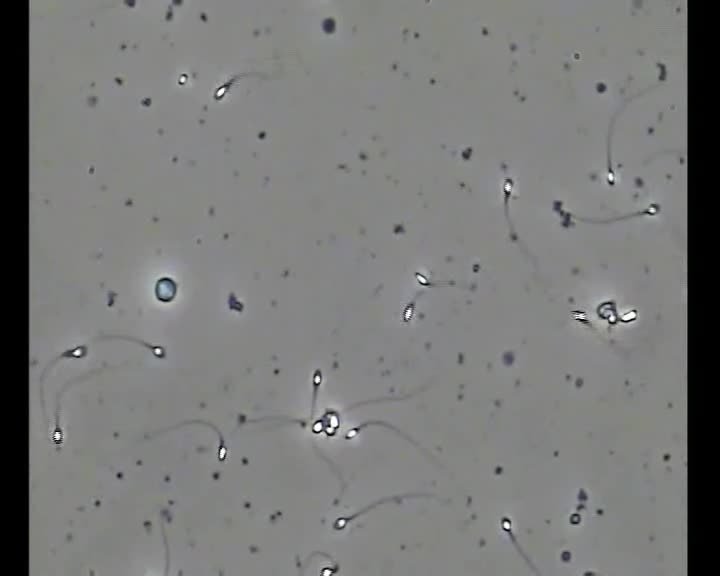spermhead: (155, 276, 177, 303), (596, 300, 617, 324), (60, 344, 87, 358), (323, 409, 339, 428), (214, 82, 233, 98), (415, 270, 431, 286), (400, 299, 413, 318), (332, 516, 349, 530), (620, 308, 637, 322), (504, 179, 516, 197), (320, 563, 338, 575), (51, 424, 63, 441), (500, 517, 512, 534), (576, 312, 589, 327), (311, 418, 323, 434), (217, 442, 227, 461), (645, 201, 659, 214), (151, 345, 166, 357), (312, 369, 322, 387), (606, 168, 616, 186), (345, 426, 358, 439), (177, 72, 189, 86), (552, 200, 564, 213), (295, 417, 307, 429), (325, 425, 337, 436)
